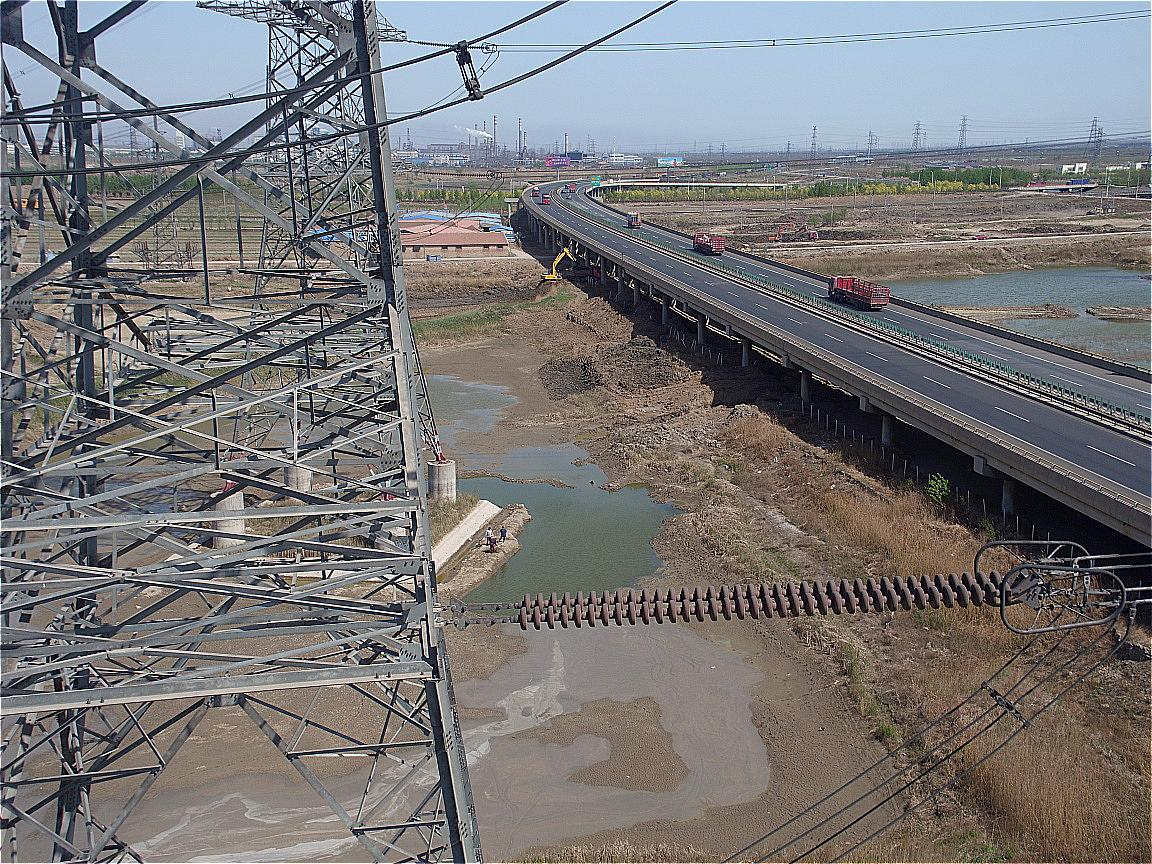insultor1: (518, 571, 1005, 633)
